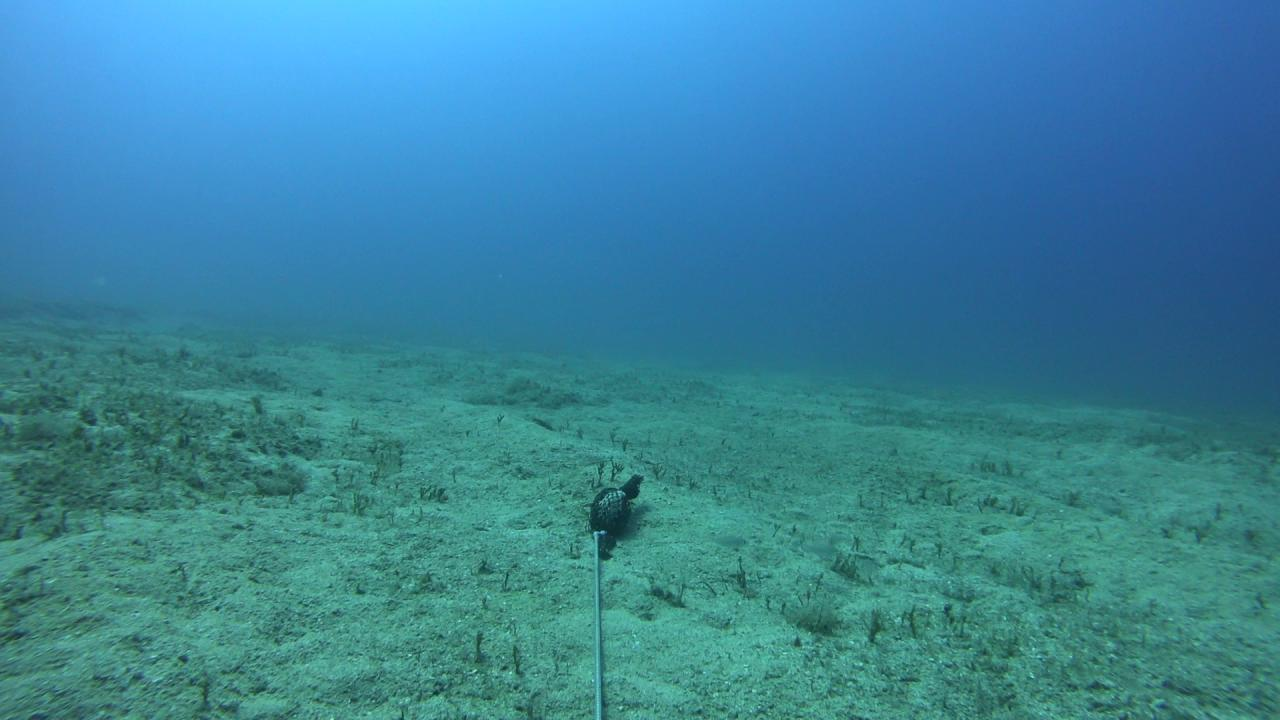pagellus: (710, 533, 750, 547)
